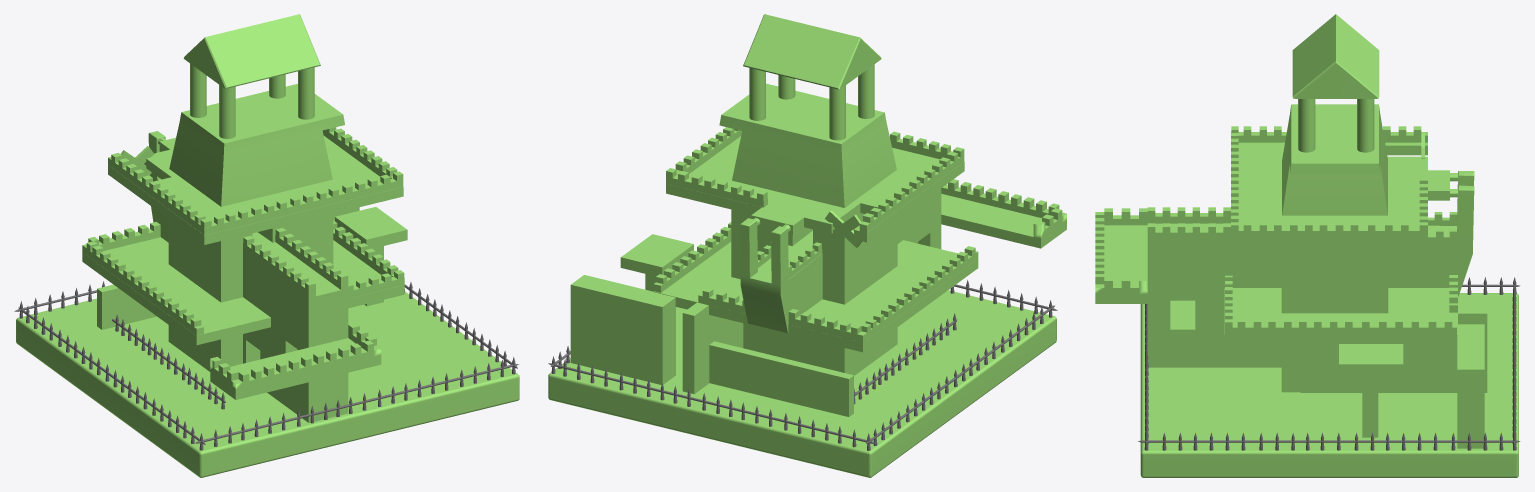
The model's file is stage004_mainMap_fix.fbx.
3 renders of one model, left to right at view 1: azimuth 30°, elevation 25°; view 2: azimuth 150°, elevation 25°; view 3: azimuth 270°, elevation 25°, orthographic. The views are drawn at different scales.
Visible parts, largest first — view 1: stage004_mainMapP1, stage004_mainMapP2, stage004_mainMapP3, stage004_mainMapRoof, stage004_fence; view 2: stage004_mainMapP1, stage004_mainMapP2, stage004_mainMapRoof, stage004_mainMapP3, stage004_fence; view 3: stage004_mainMapP1, stage004_mainMapP2, stage004_mainMapP3, stage004_mainMapRoof, stage004_fence.
Part boxes in pixels (<box>): stage004_mainMapP1: <box>16,127,519,477</box>; stage004_mainMapP2: <box>168,84,344,371</box>; stage004_mainMapP3: <box>148,131,348,422</box>; stage004_mainMapRoof: <box>183,14,320,138</box>; stage004_fence: <box>14,281,518,450</box>; stage004_mainMapP1: <box>548,127,1066,477</box>; stage004_mainMapP2: <box>719,83,897,375</box>; stage004_mainMapRoof: <box>743,14,881,140</box>; stage004_mainMapP3: <box>740,188,941,333</box>; stage004_fence: <box>548,280,1057,450</box>; stage004_mainMapP1: <box>1095,126,1518,477</box>; stage004_mainMapP2: <box>1281,104,1388,392</box>; stage004_mainMapP3: <box>1147,171,1474,367</box>; stage004_mainMapRoof: <box>1292,14,1379,152</box>; stage004_fence: <box>1138,277,1520,450</box>.
Size of the model in its own units: 48.01 by 49.13 by 53.3.
